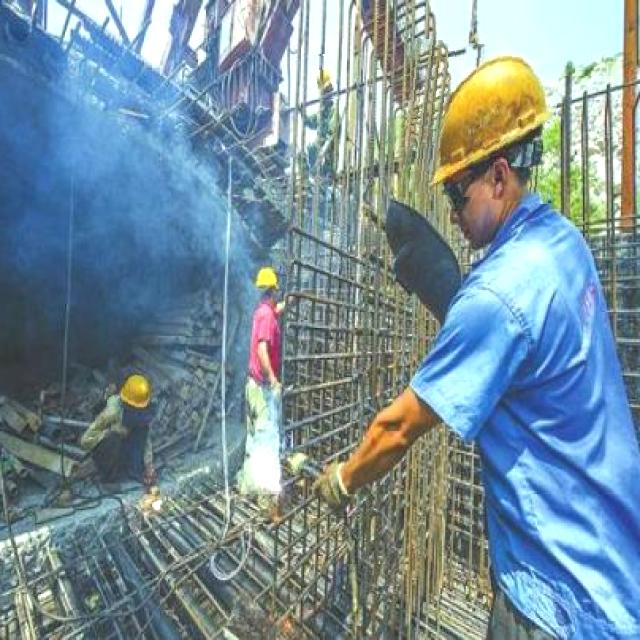helmet: (404, 41, 558, 201), (234, 249, 294, 290), (108, 372, 165, 412), (313, 54, 338, 100)
